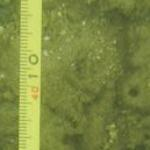dead: (13, 1, 149, 147)
